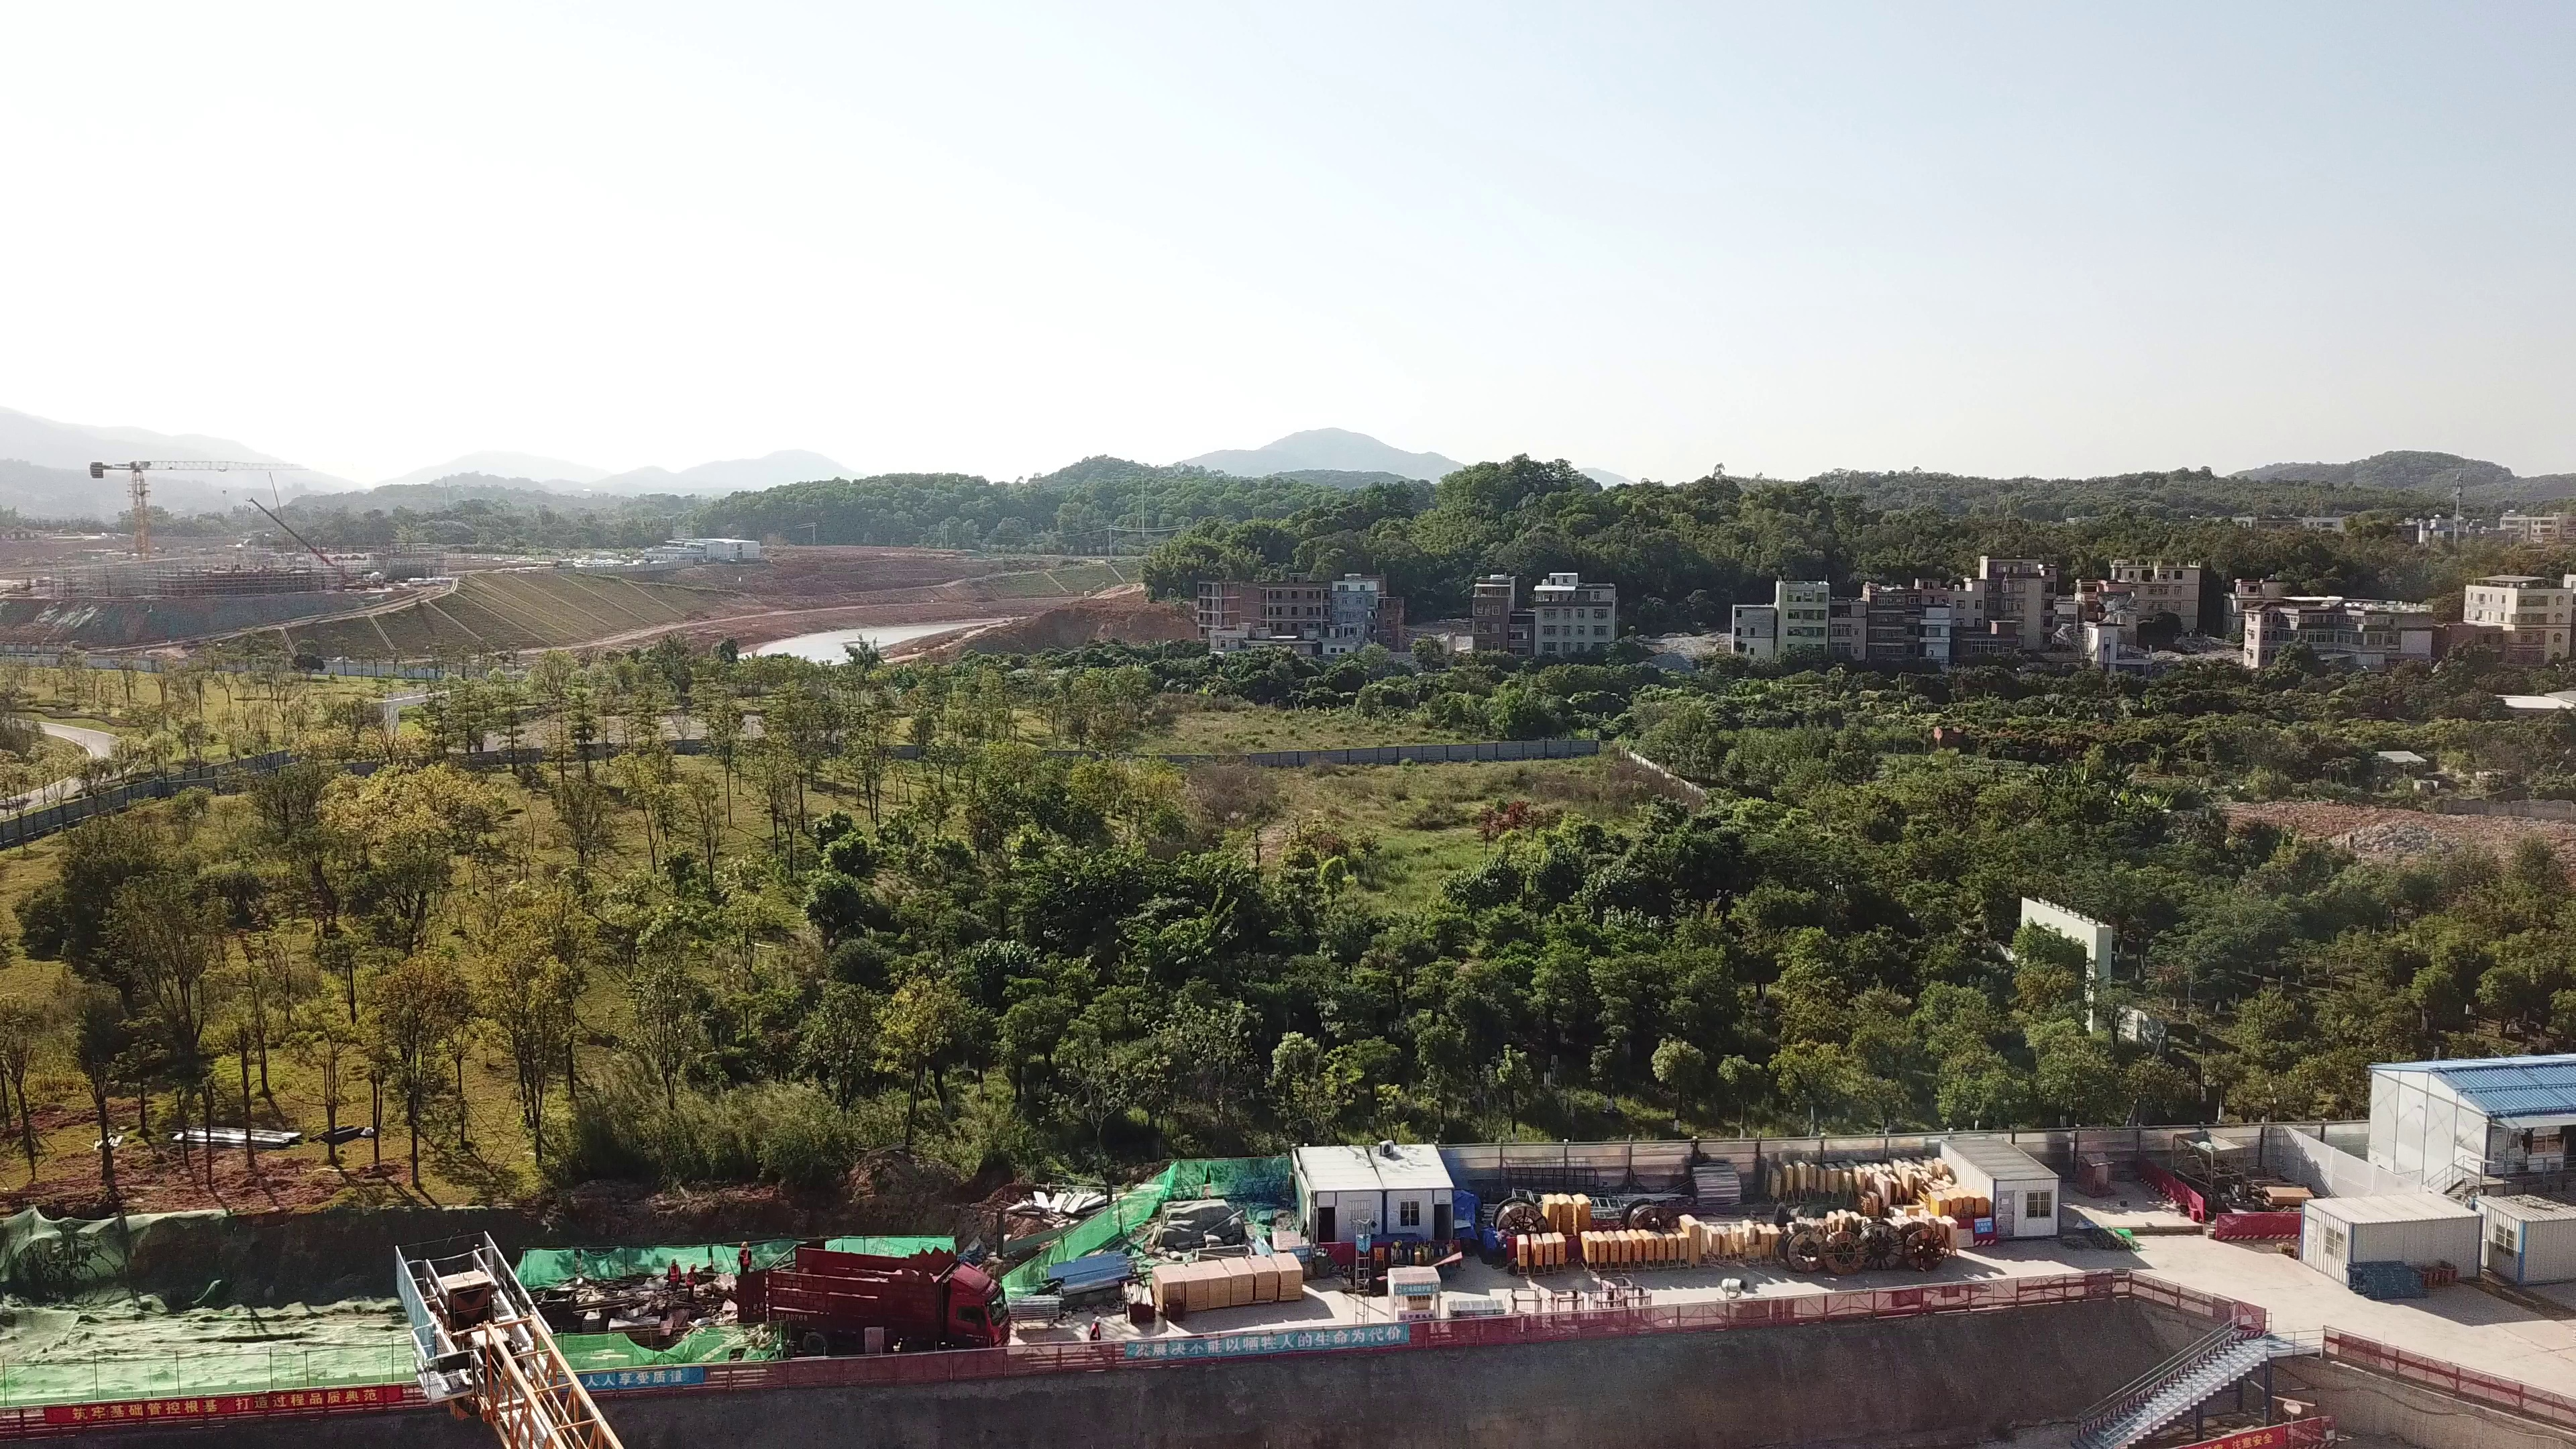fence: (867, 1313, 1552, 1377), (1467, 1134, 1988, 1204)
helmet: (1093, 1315, 1108, 1328), (688, 1262, 698, 1271), (739, 1239, 749, 1248), (669, 1256, 678, 1264)
person: (1086, 1312, 1113, 1350), (733, 1240, 757, 1278), (684, 1260, 704, 1295), (663, 1254, 681, 1288)
scaffold: (1114, 1275, 1163, 1320), (1010, 1295, 1065, 1328)
slogan: (1112, 1320, 1418, 1369), (46, 1386, 405, 1422), (548, 1356, 710, 1398), (2211, 1426, 2277, 1449)
vest: (1088, 1322, 1105, 1338), (668, 1266, 680, 1287), (686, 1272, 700, 1288), (738, 1250, 750, 1267)
wood: (1154, 1262, 1301, 1305)
